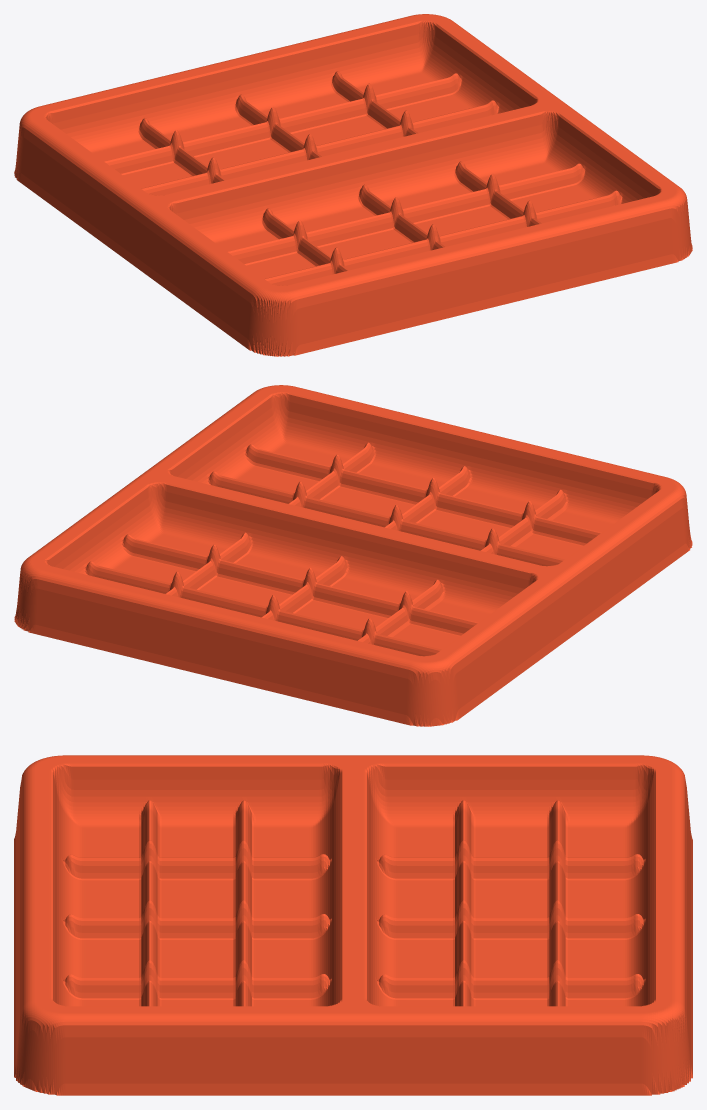
The model's file is mold.glb.
The picture shows the model from 3 angles, top to bottom: view 1: azimuth 30°, elevation 25°; view 2: azimuth 150°, elevation 25°; view 3: azimuth 270°, elevation 25°; orthographic projection. The views are drawn at different scales.
Parts seen in each view (by area): view 1: geometry_0; view 2: geometry_0; view 3: geometry_0.
Part boxes in pixels (<box>): geometry_0: <box>14,14,692,356</box>; geometry_0: <box>14,385,692,726</box>; geometry_0: <box>14,755,692,1095</box>.
Size of the model in its own units: 0.1158 by 0.0145 by 0.1213.
